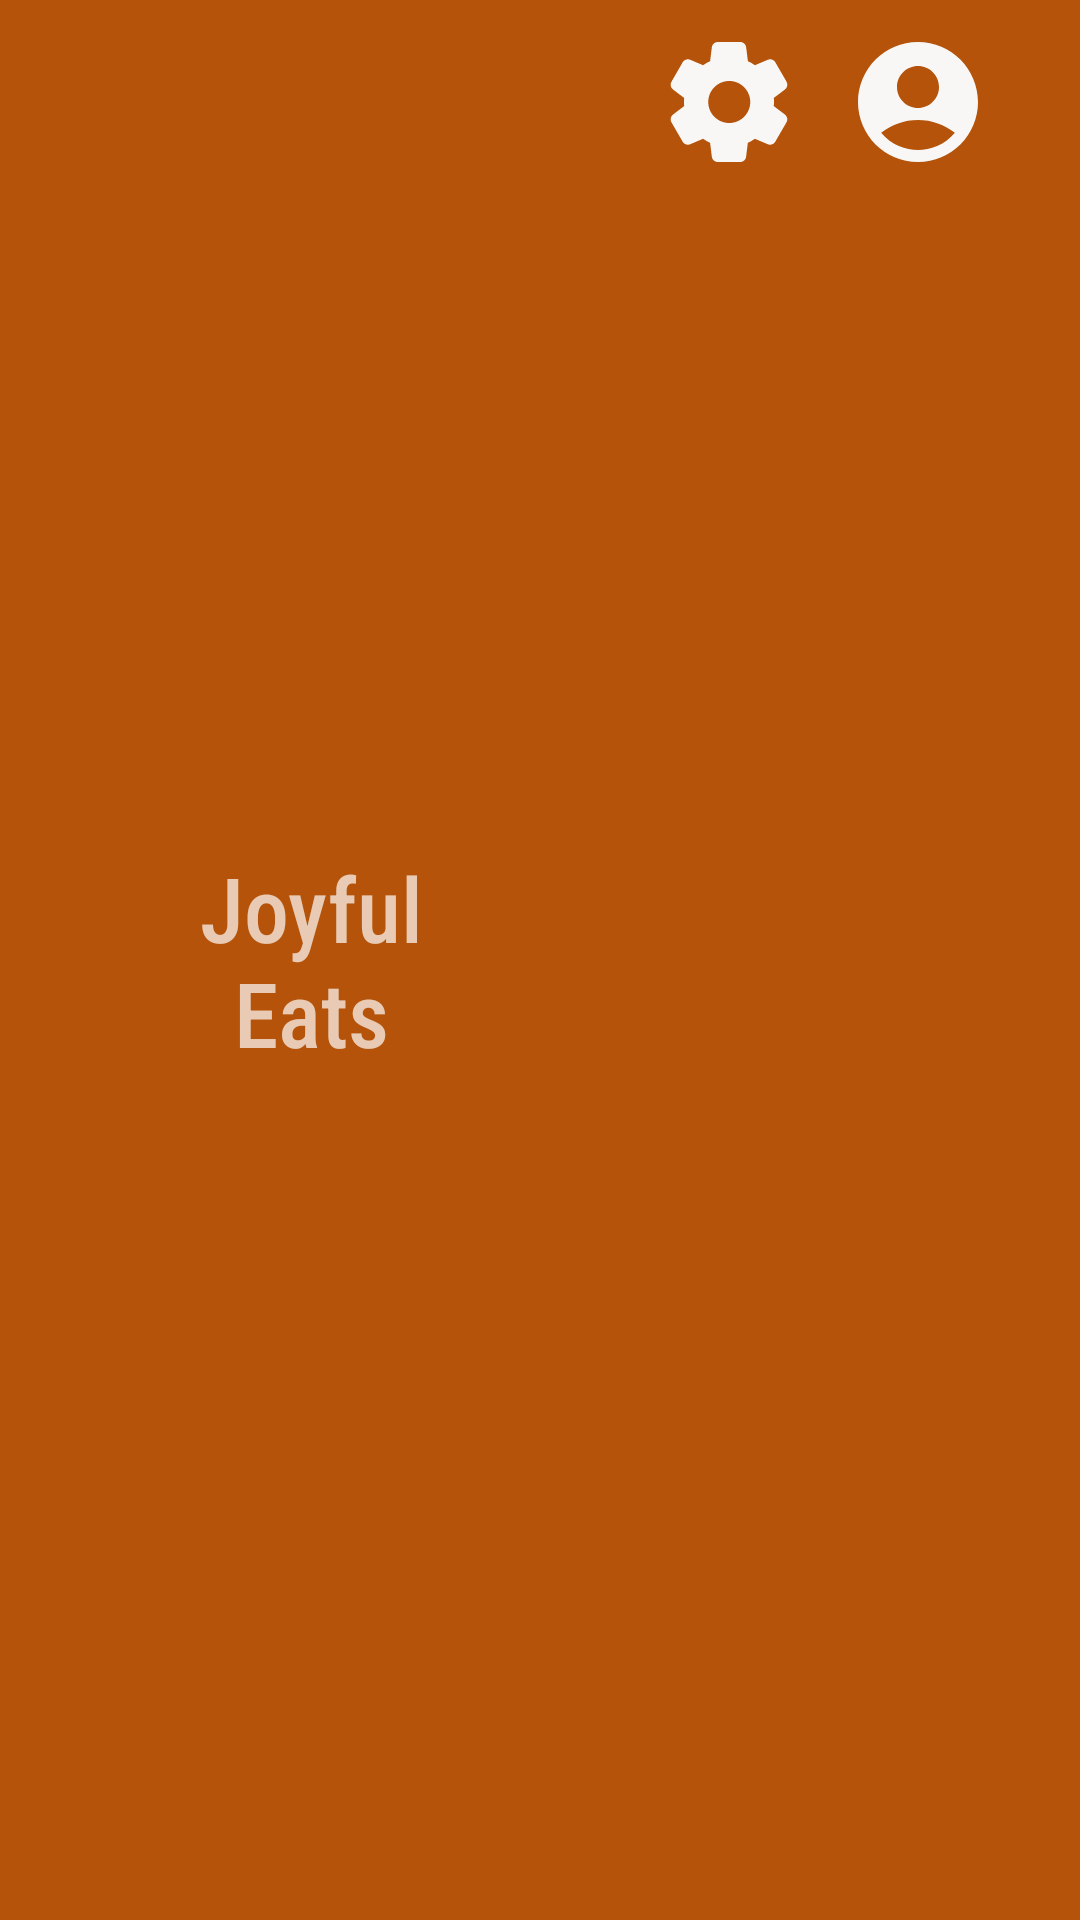

Where icons sit on this 1080x1920 app screen, as (x1=x1, y1=y1, x2=x2, y2=y2):
Profile Developer: (x1=858, y1=42, x2=978, y2=162)
Setting Account: (x1=670, y1=42, x2=788, y2=162)
